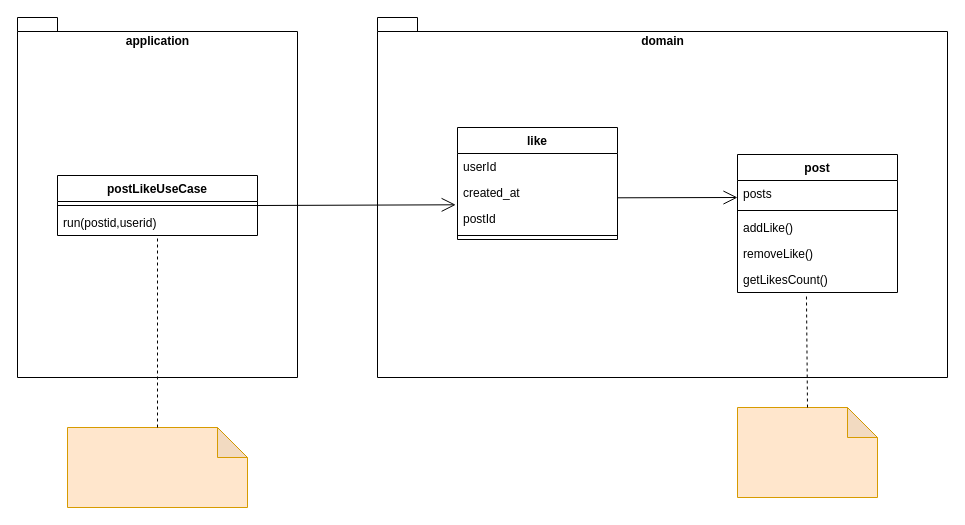
This 965x525 diagram has some shape labels left out. The centre of each missing label's shape, as x and y in pixels:
rurの内部では、以下を実行 ・投稿の存在チェック ・投稿へいいねを押す: (x=157, y=467)
投稿にいいねは紐づくのでpostで管理する: (x=807, y=452)
